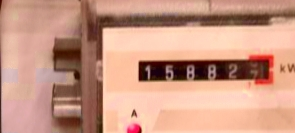1: (144, 62, 153, 78)
2: (228, 60, 238, 77)
5: (165, 62, 175, 78)
7: (250, 67, 259, 78)
8: (186, 62, 196, 79), (207, 61, 217, 78)
screen: (132, 49, 280, 89)
